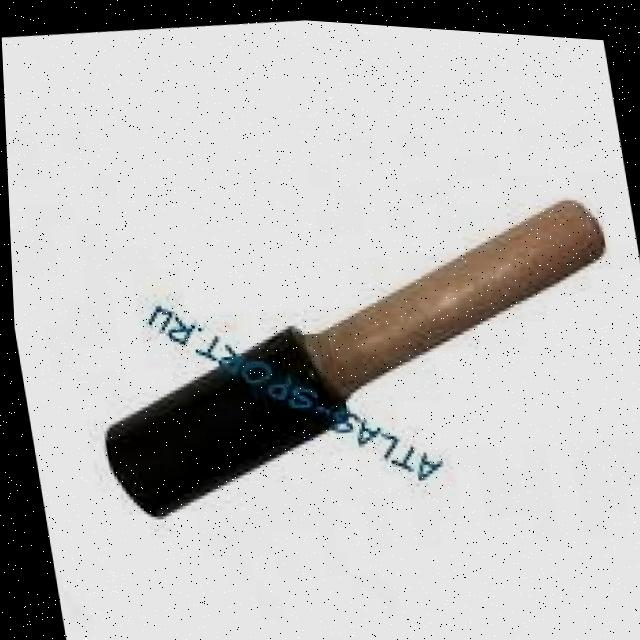grenade: (65, 161, 640, 544)
